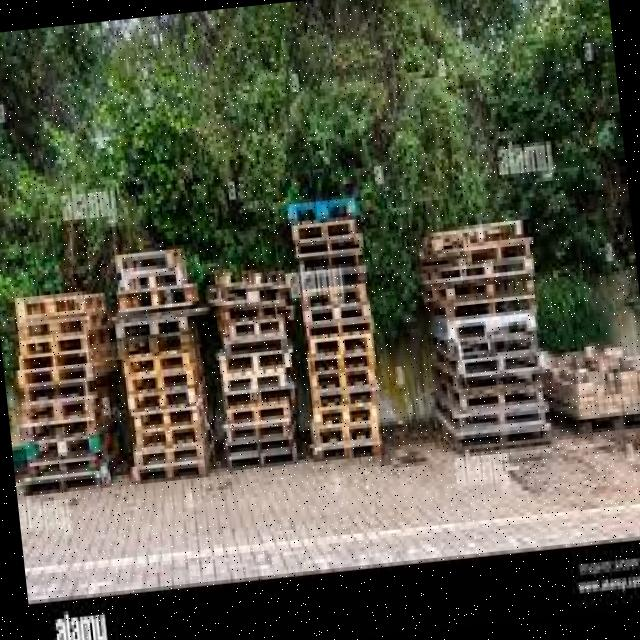Wooden-Pallets: (8, 284, 105, 328), (128, 451, 210, 491), (306, 392, 383, 432), (128, 412, 204, 452), (214, 413, 298, 444), (297, 284, 373, 318), (306, 436, 384, 468), (118, 347, 198, 378), (289, 212, 359, 246), (220, 368, 290, 402), (118, 385, 200, 414), (307, 330, 373, 358)
